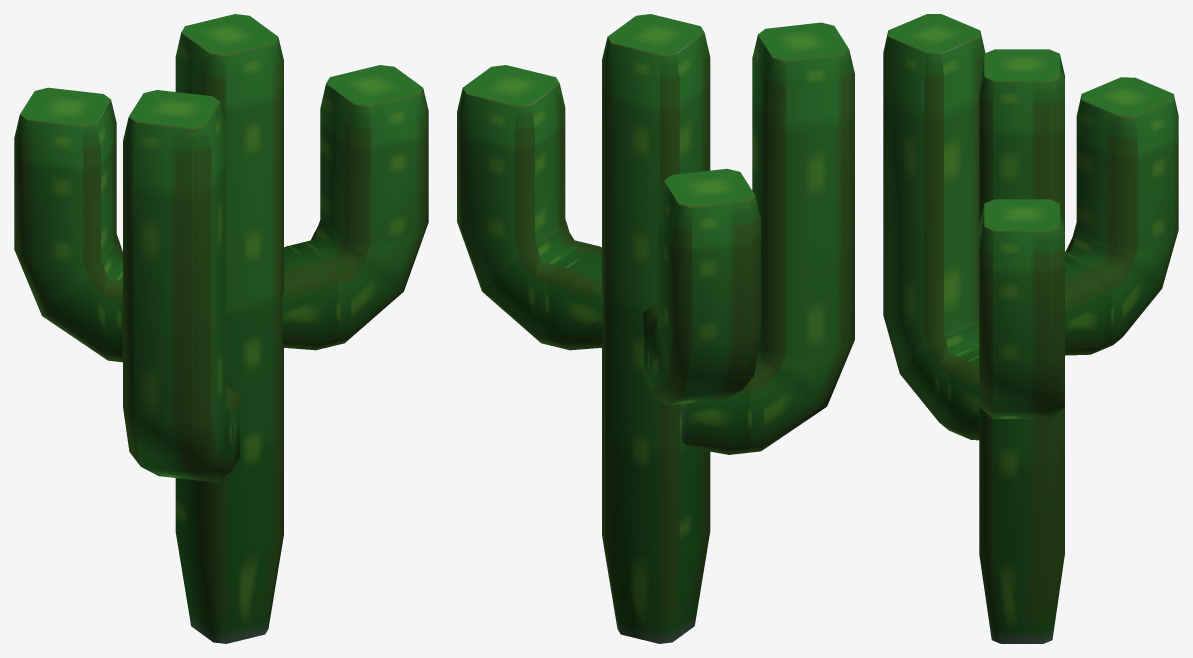
File: cactus_v057.fbx
3 renders of one model, left to right at view 1: azimuth 30°, elevation 25°; view 2: azimuth 150°, elevation 25°; view 3: azimuth 270°, elevation 25°, orthographic. The views are drawn at different scales.
Parts seen in each view (by area): view 1: cactus_v057; view 2: cactus_v057; view 3: cactus_v057.
Boxes of the visible parts, x1,y1,x2,y2 form: cactus_v057: [14, 14, 428, 643]; cactus_v057: [457, 14, 854, 643]; cactus_v057: [883, 14, 1178, 643].
Size of the model in its own units: 230 by 385 by 182.
